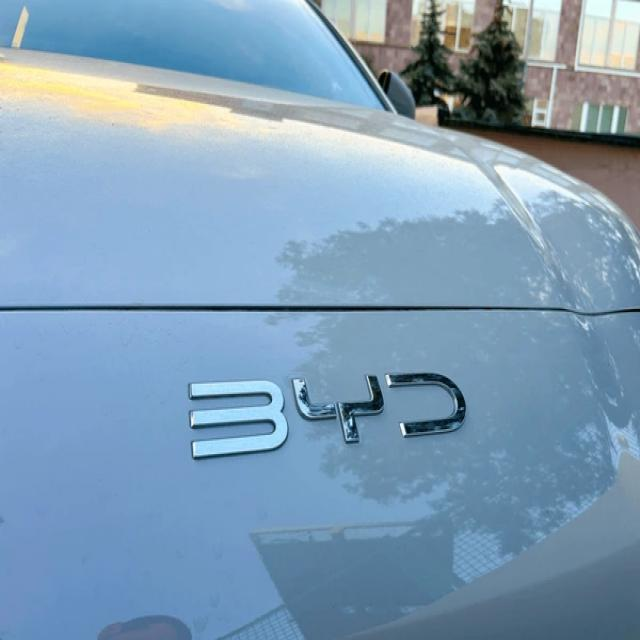byd: (185, 352, 468, 466)
